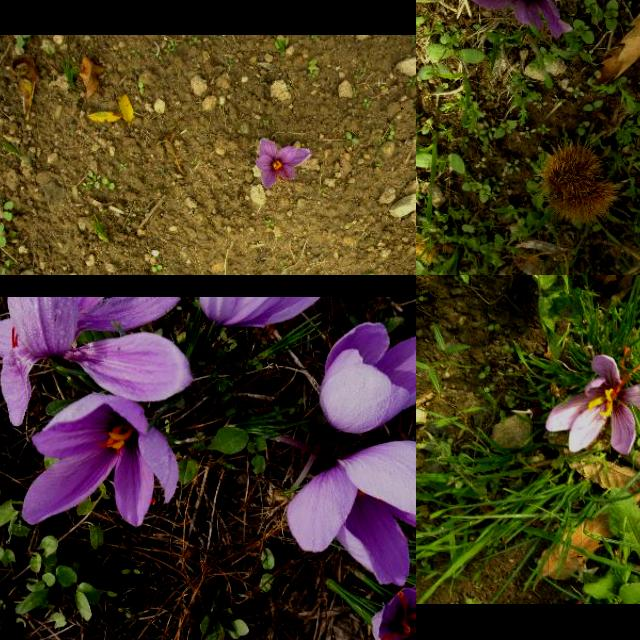flower: (0, 297, 194, 427), (21, 392, 180, 528), (287, 441, 416, 587), (318, 322, 416, 435), (545, 348, 640, 456), (465, 0, 606, 37), (200, 297, 320, 329), (254, 138, 312, 190), (371, 576, 416, 640)
